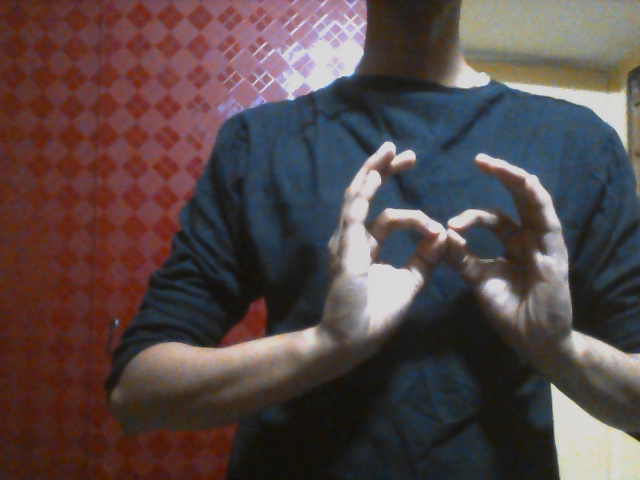B: (323, 140, 576, 376)
